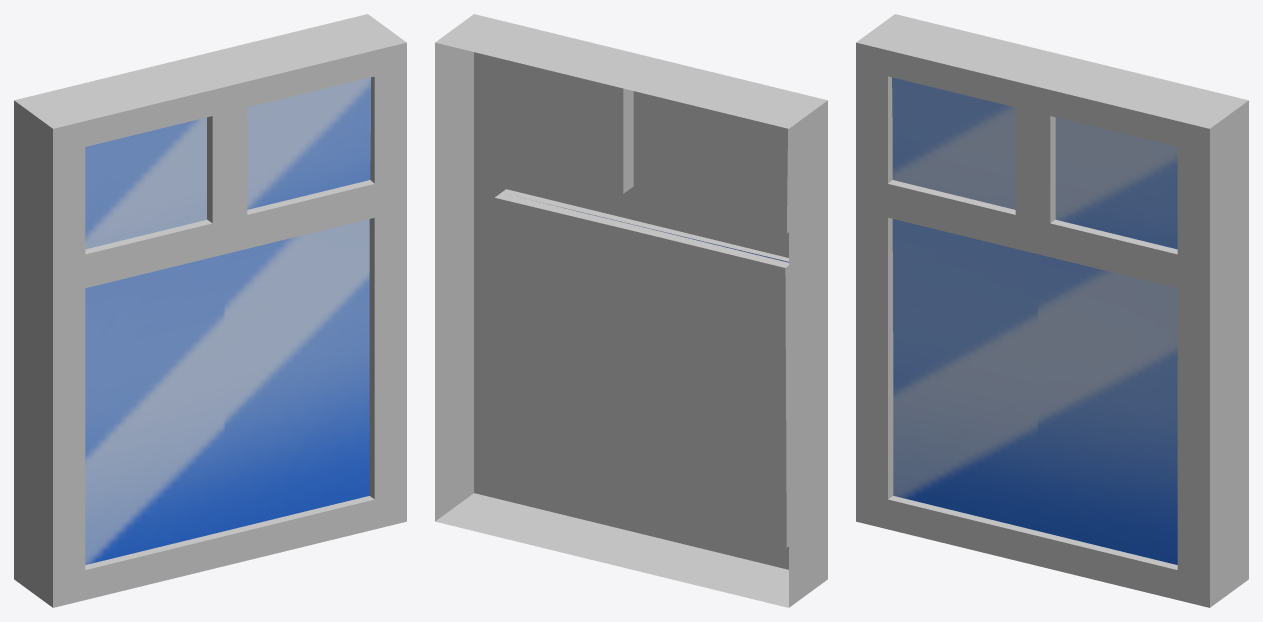
Rendered from window_05.fbx.
The picture shows the model from 3 angles, left to right: view 1: azimuth 30°, elevation 25°; view 2: azimuth 150°, elevation 25°; view 3: azimuth 330°, elevation 25°; orthographic projection.
Visible parts, largest first — view 1: polySurface160_Ext_1, polySurface160; view 2: polySurface160; view 3: polySurface160_Ext_1, polySurface160.
Boxes of the visible parts, left/top/right/bottom form: polySurface160_Ext_1: left=85, top=77, right=370, bottom=564; polySurface160: left=14, top=14, right=406, bottom=607; polySurface160: left=435, top=14, right=827, bottom=607; polySurface160_Ext_1: left=892, top=77, right=1177, bottom=564; polySurface160: left=856, top=14, right=1248, bottom=607.
Bounding box in the file's own units: 96.24 × 125 × 18.4.
